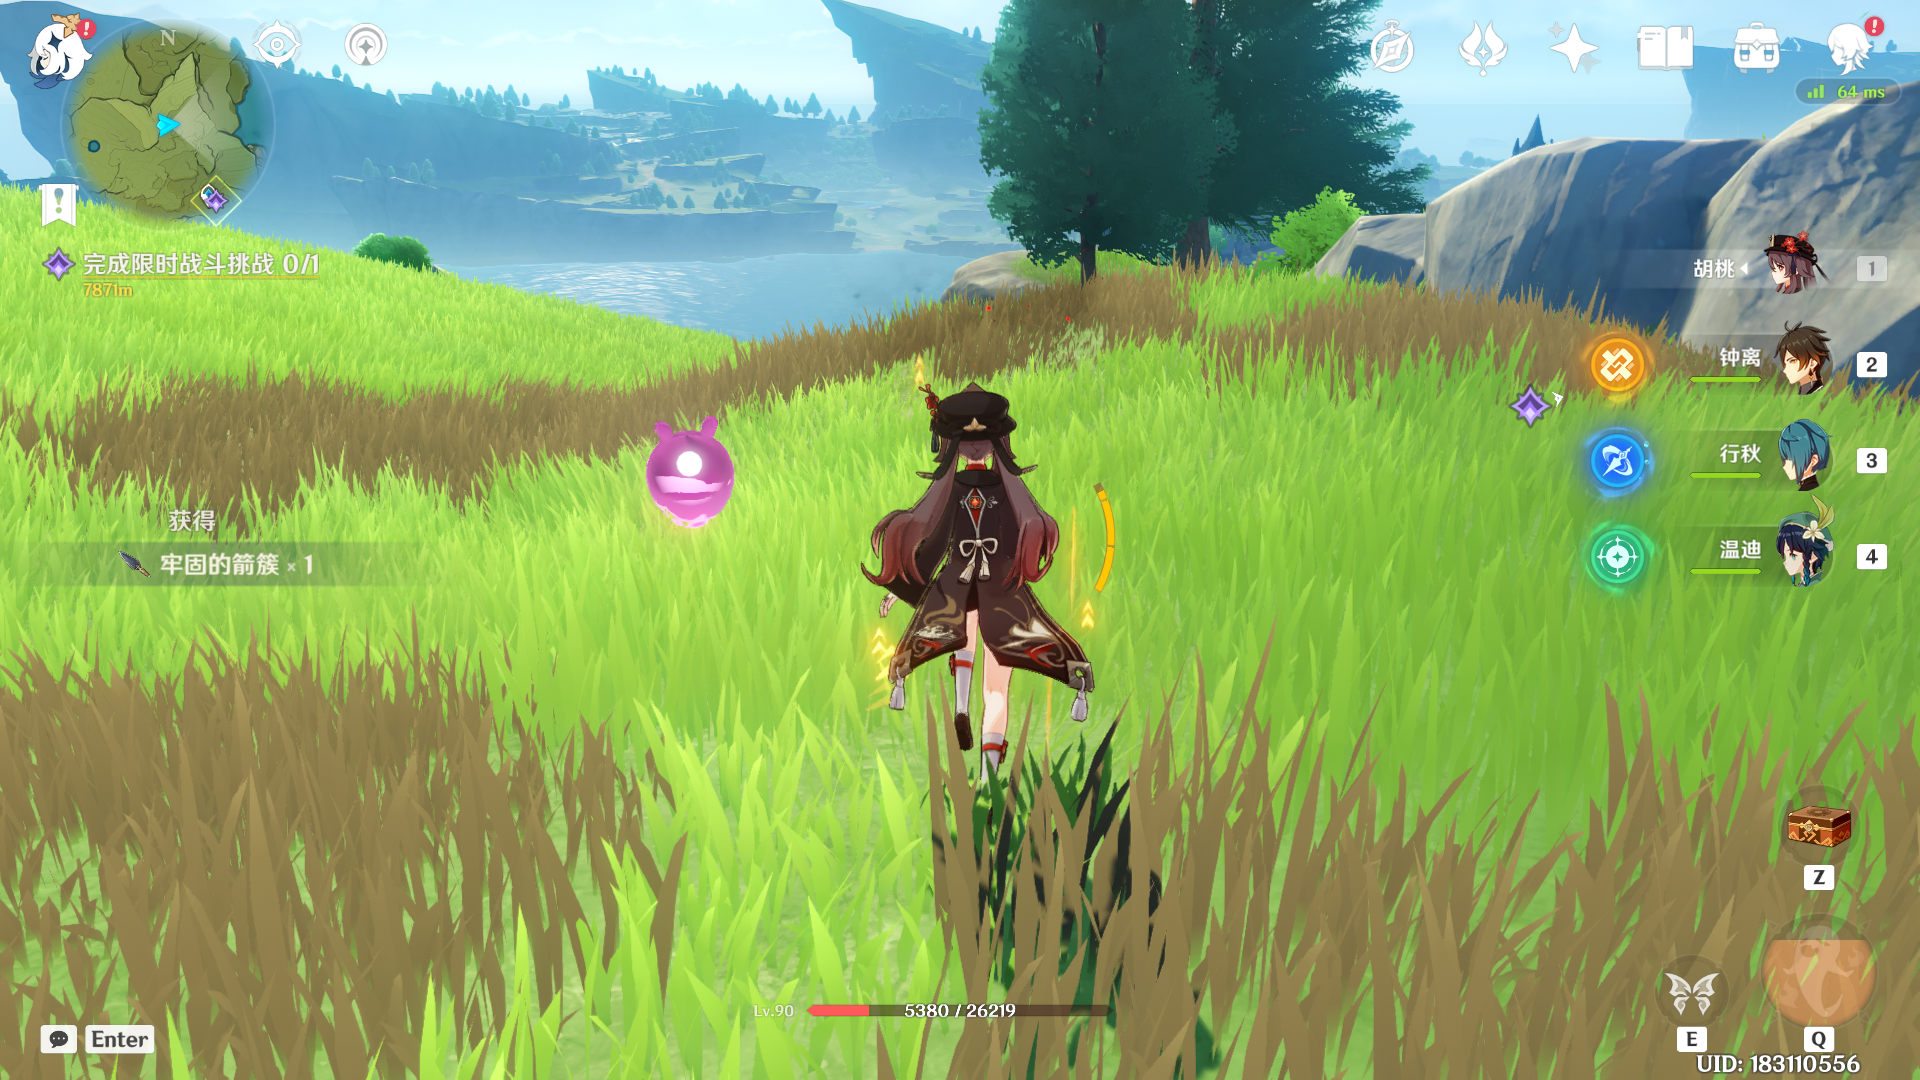character: (823, 335, 1106, 835)
